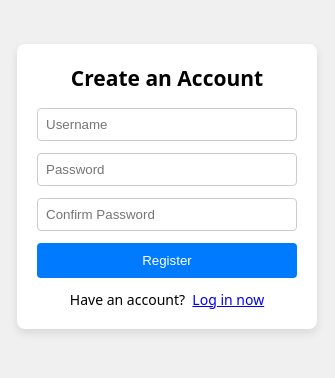
Test: User Registration › should display error when passwords do not match
Type "uniqueuser" into the field with test id "username" at [167, 125], box [37,108,297,141]
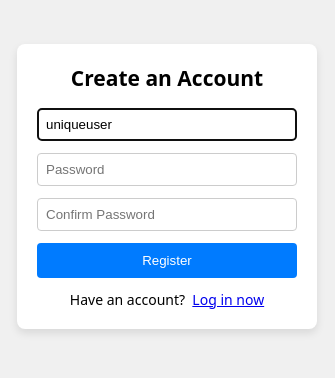
Type "Pass@123" into the password field with test id "password" at [167, 170], box [37,153,297,186]
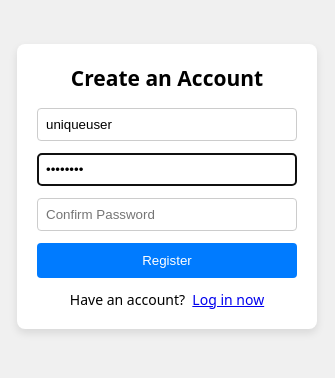
Type "Pass@321" into the password field with test id "register-confirm-password" at [167, 215], box [37,198,297,231]
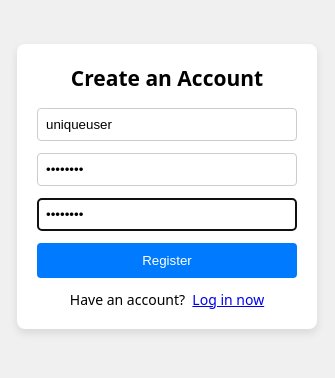
Click the button with test id "register-button" at [167, 261], box [37,243,297,278]
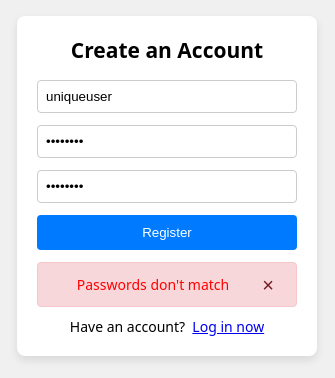
expect the text with test id "error-message" reads "Passwords don't match": met, box [77,275,229,294]
